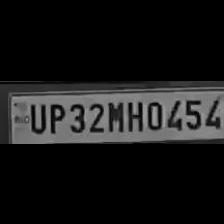0: (144, 96, 162, 130)
2: (86, 97, 104, 132)
3: (66, 97, 86, 132)
4: (202, 94, 222, 128), (164, 96, 182, 130)
5: (181, 94, 201, 130)
H: (124, 96, 144, 132)
M: (105, 97, 124, 133)
P: (46, 99, 64, 134)
U: (25, 99, 45, 133)
